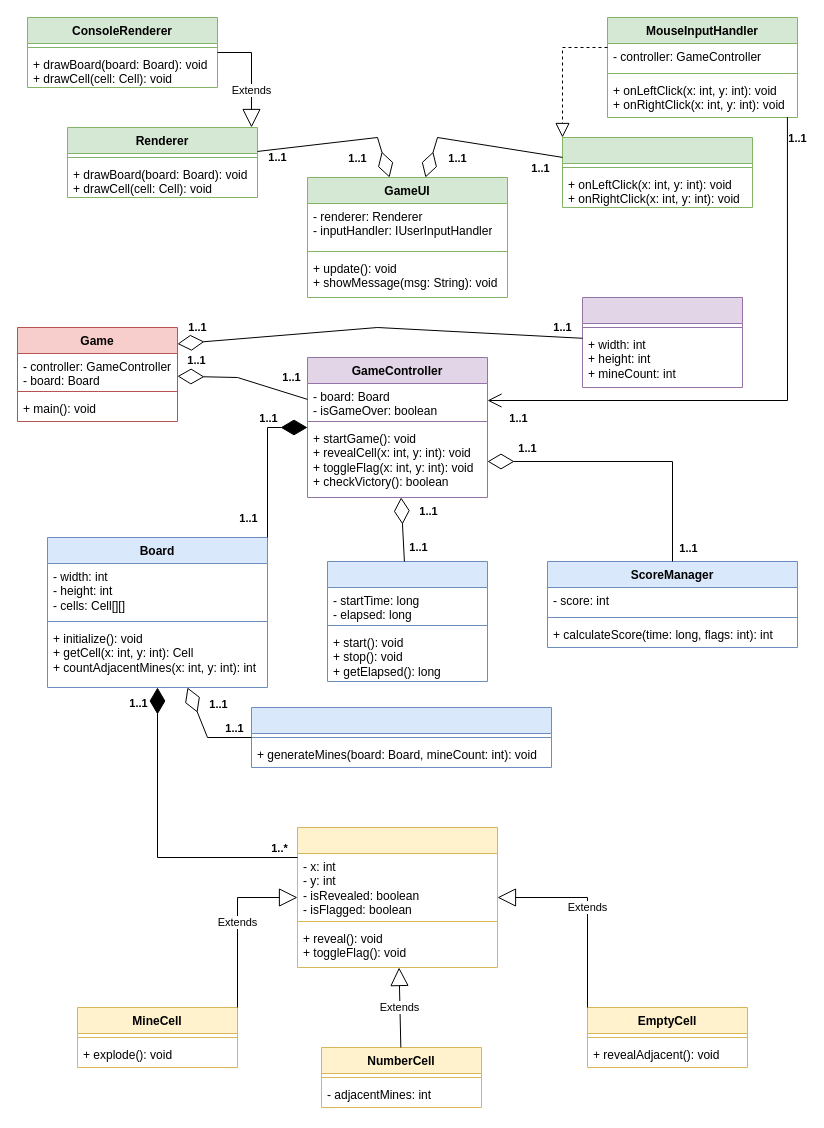
Some shapes in this 824 by 1128 pixel diagram are drawn without their labels. The box of each missing label's shape, as (x1, y1, x2, y2) in pixels:
Cell: (296, 826, 498, 968)
GameConfig: (582, 296, 742, 388)
GameTimer: (326, 560, 488, 682)
IUserInputHandler: (562, 136, 752, 208)
MineGenerator: (250, 706, 552, 768)
